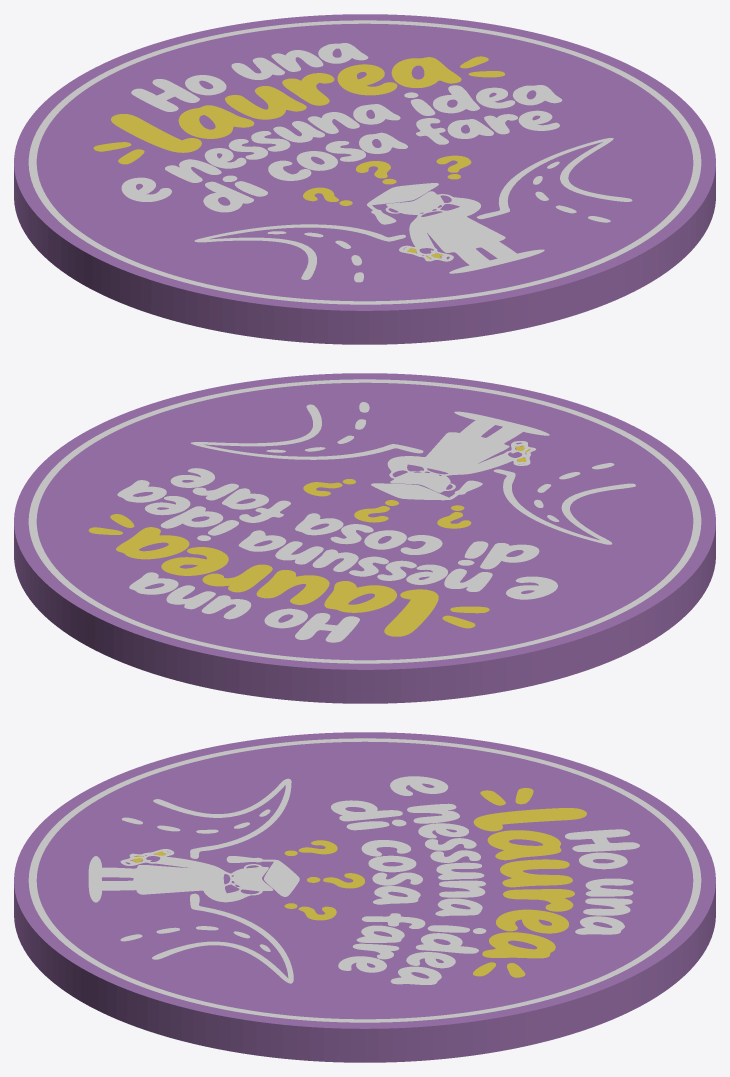
File: sottobicchiere-laurea-nessuna-idea.glb
The picture shows the model from 3 angles, top to bottom: view 1: azimuth 30°, elevation 25°; view 2: azimuth 150°, elevation 25°; view 3: azimuth 270°, elevation 25°; orthographic projection.
Visible parts, largest first — view 1: coaster_base, coaster_ink, coaster_accent; view 2: coaster_base, coaster_ink, coaster_accent; view 3: coaster_base, coaster_ink, coaster_accent.
Part boxes in pixels (x1,y1,x2,y2): coaster_base: (14, 14, 715, 344); coaster_ink: (28, 20, 701, 304); coaster_accent: (93, 56, 504, 259); coaster_base: (14, 373, 715, 703); coaster_ink: (28, 379, 701, 663); coaster_accent: (88, 445, 530, 636); coaster_base: (14, 732, 715, 1062); coaster_ink: (28, 738, 701, 1022); coaster_accent: (130, 788, 586, 977).
Bounding box in the file's own units: 0.075 × 0.004 × 0.075.
